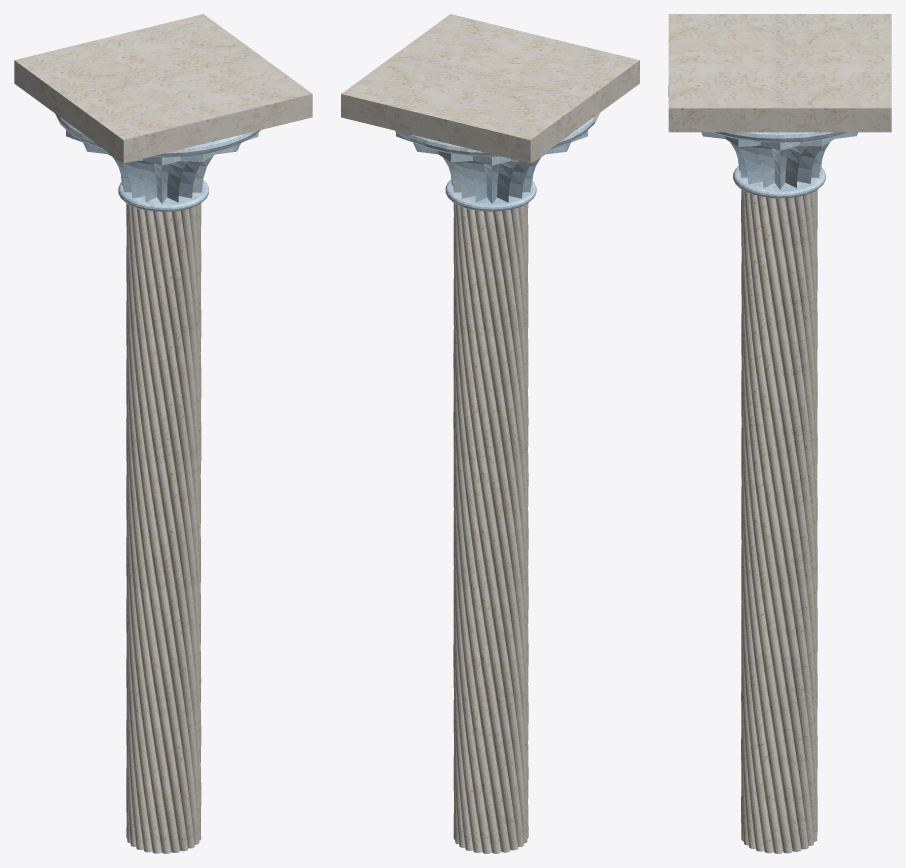
File: column.obj
The picture shows the model from 3 angles, left to right: view 1: azimuth 30°, elevation 25°; view 2: azimuth 150°, elevation 25°; view 3: azimuth 270°, elevation 25°; orthographic projection. The views are drawn at different scales.
Parts seen in each view (by area): view 1: __________________GDLM2_CONCRETE_BLUE_ST_SMOOTH_PART, __________________GDLM3_WHITE_MATTE_SMOOTH_PART; view 2: __________________GDLM2_CONCRETE_BLUE_ST_SMOOTH_PART, __________________GDLM3_WHITE_MATTE_SMOOTH_PART; view 3: __________________GDLM2_CONCRETE_BLUE_ST_SMOOTH_PART, __________________GDLM3_WHITE_MATTE_SMOOTH_PART.
Part boxes in pixels (x1,y1,x2,y2): __________________GDLM2_CONCRETE_BLUE_ST_SMOOTH_PART: (14, 14, 312, 853); __________________GDLM3_WHITE_MATTE_SMOOTH_PART: (55, 114, 260, 211); __________________GDLM2_CONCRETE_BLUE_ST_SMOOTH_PART: (341, 14, 639, 853); __________________GDLM3_WHITE_MATTE_SMOOTH_PART: (394, 113, 599, 211); __________________GDLM2_CONCRETE_BLUE_ST_SMOOTH_PART: (668, 14, 891, 853); __________________GDLM3_WHITE_MATTE_SMOOTH_PART: (668, 86, 858, 198).
Size of the model in its own units: 1568 by 6000 by 1566.
2 materials, 2 textured.
